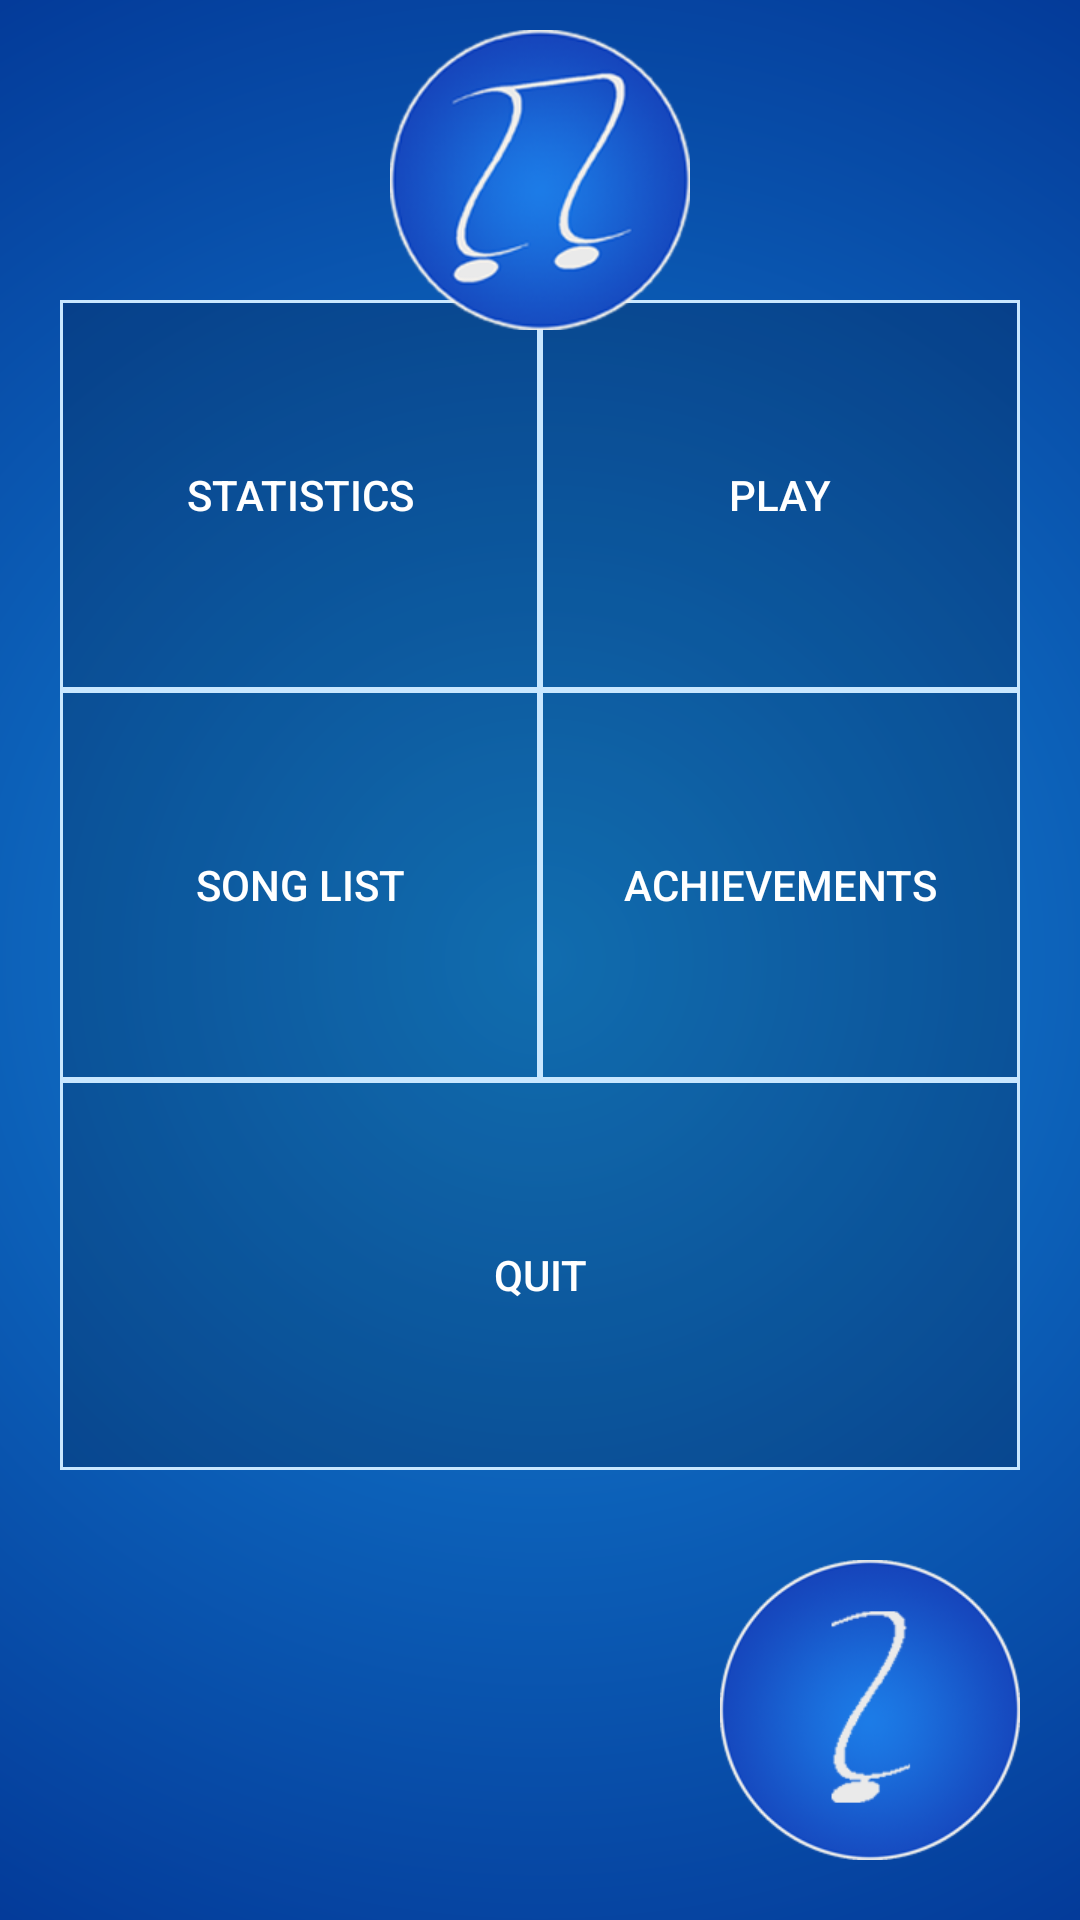

Icons on this 1080x1920 Android screen, each with its box as bbox=(x1, y1, x2, y2):
help: bbox=(720, 1560, 1020, 1860)
